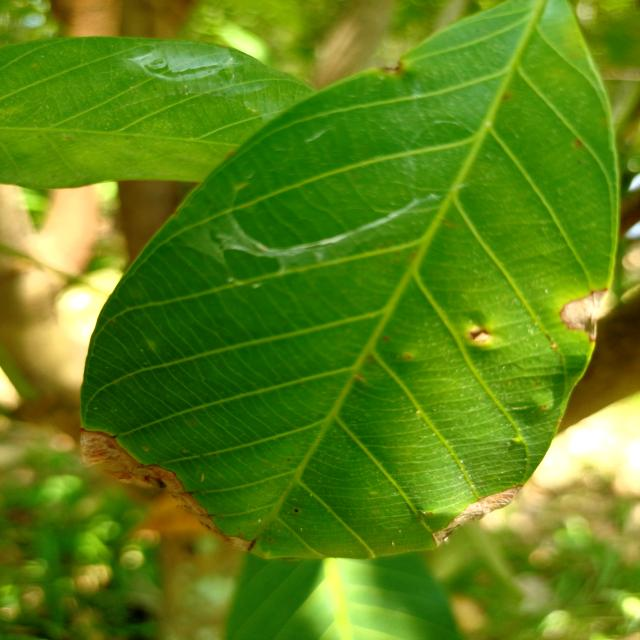Colletotrichum: (294, 509, 299, 512)
Leaf-Blight: (78, 428, 252, 553), (430, 484, 523, 546), (559, 288, 608, 341)
